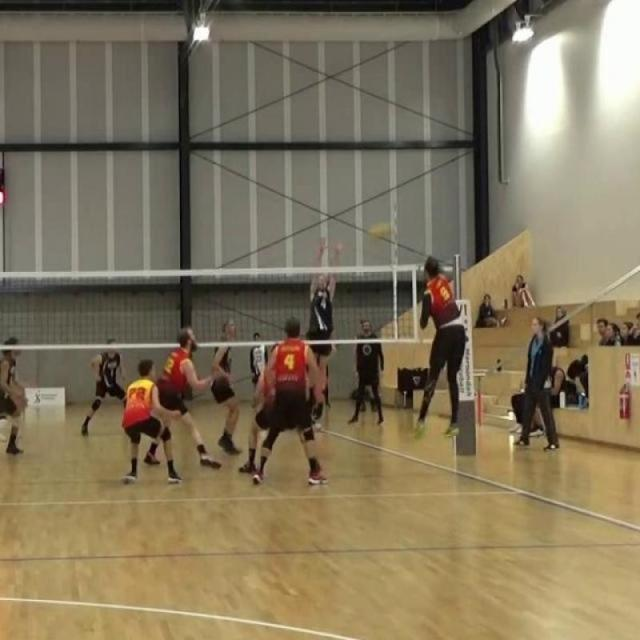volleyball: (365, 221, 397, 245)
